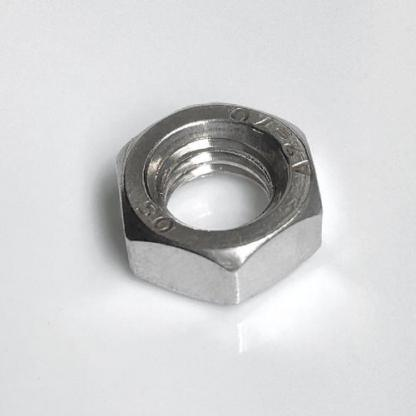FOD: (114, 100, 323, 299)
